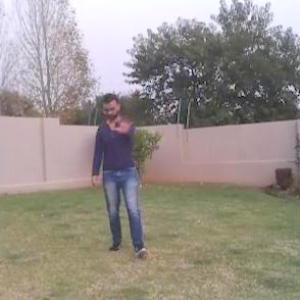follow_hand: (110, 106, 137, 135)
